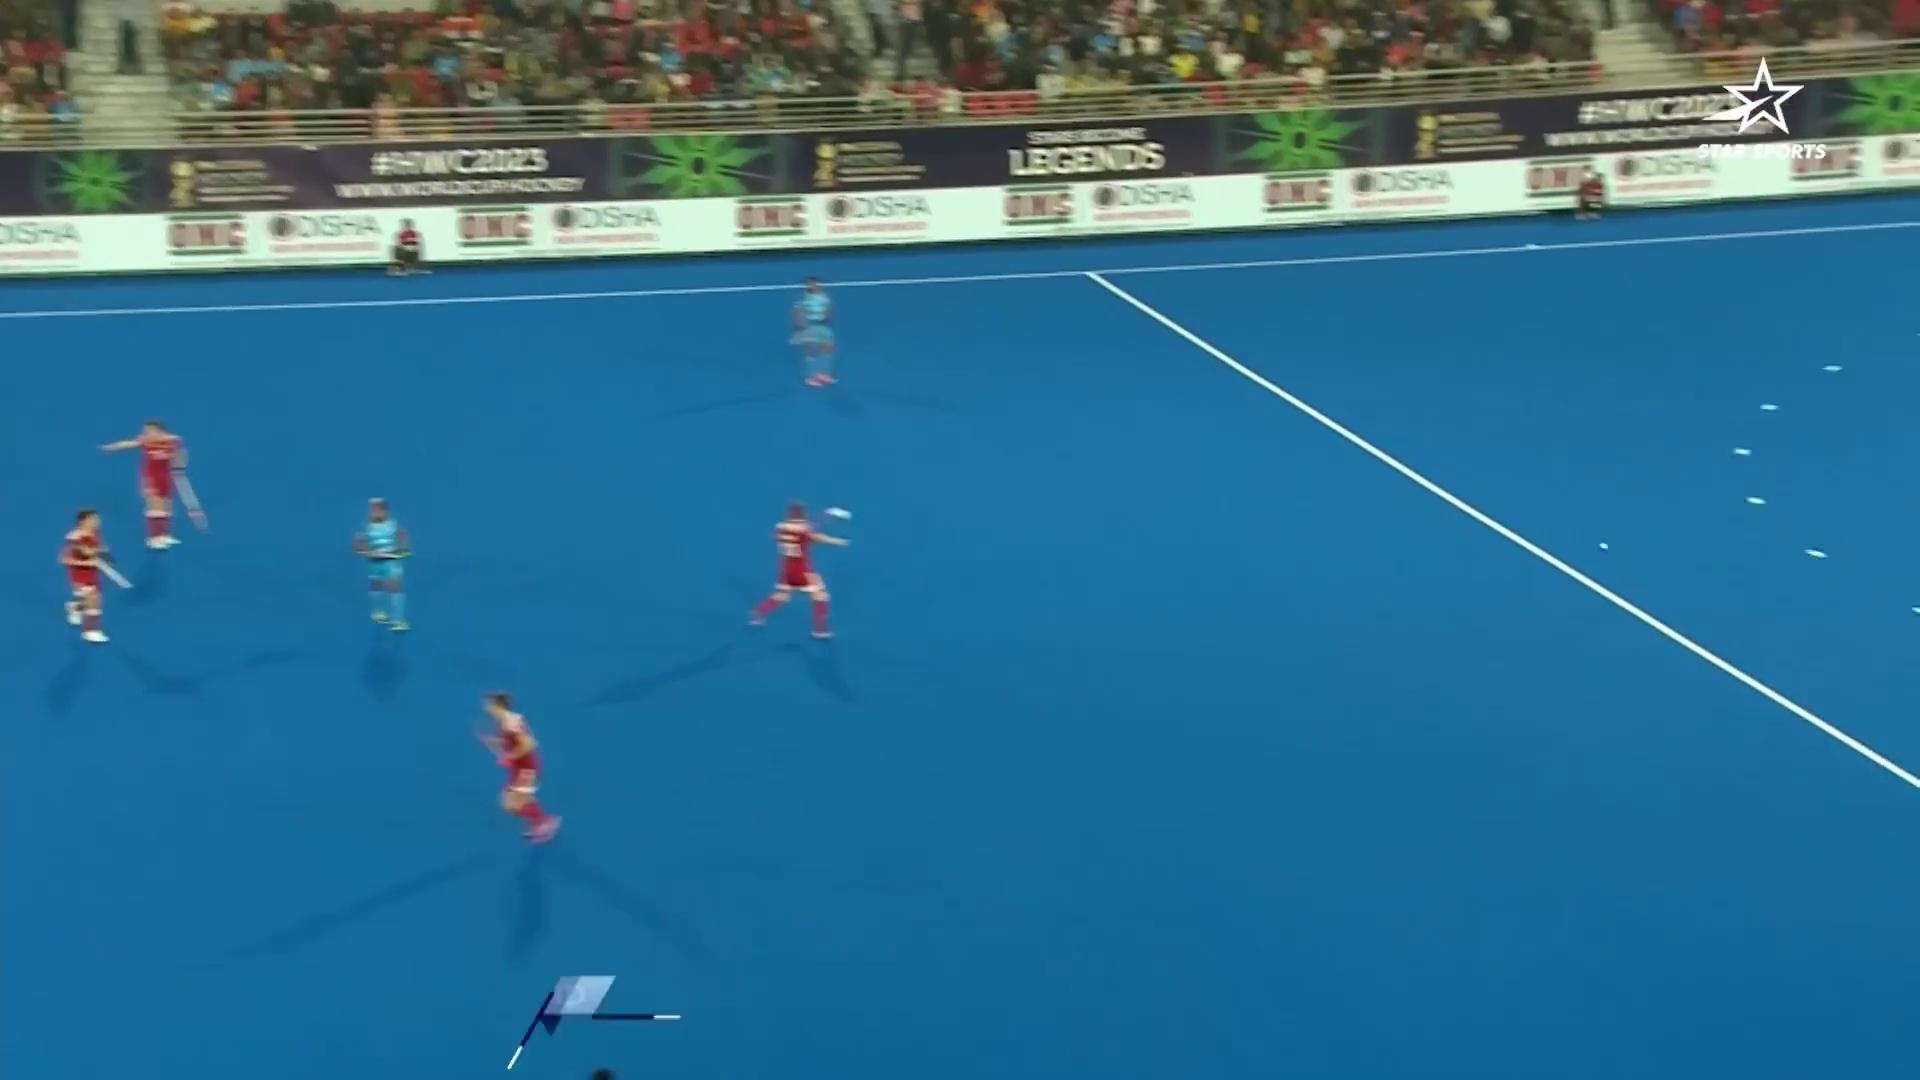ball: (806, 484, 885, 533)
